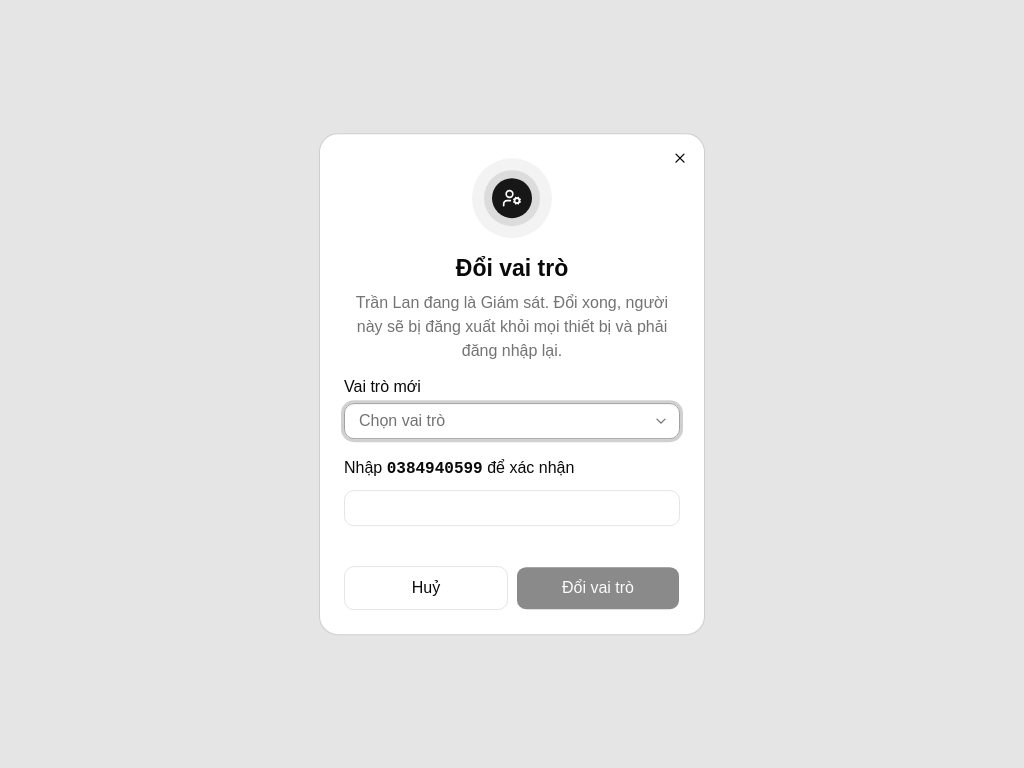
Test case: ChangeUserRoleDialog › nêu vai trò hiện tại và cảnh báo bị đăng xuất; ô chọn không có vai trò hiện tại
Expected: the text "đăng xuất khỏi mọi thiết bị" shows "Trần Lan", 356,294 -> 419,311
Expected: the text "đăng xuất khỏi mọi thiết bị" shows "Giám sát", 357,294 -> 668,359
Click the dropdown named "Vai trò mới" at (402, 420), box 344,403 -> 680,439
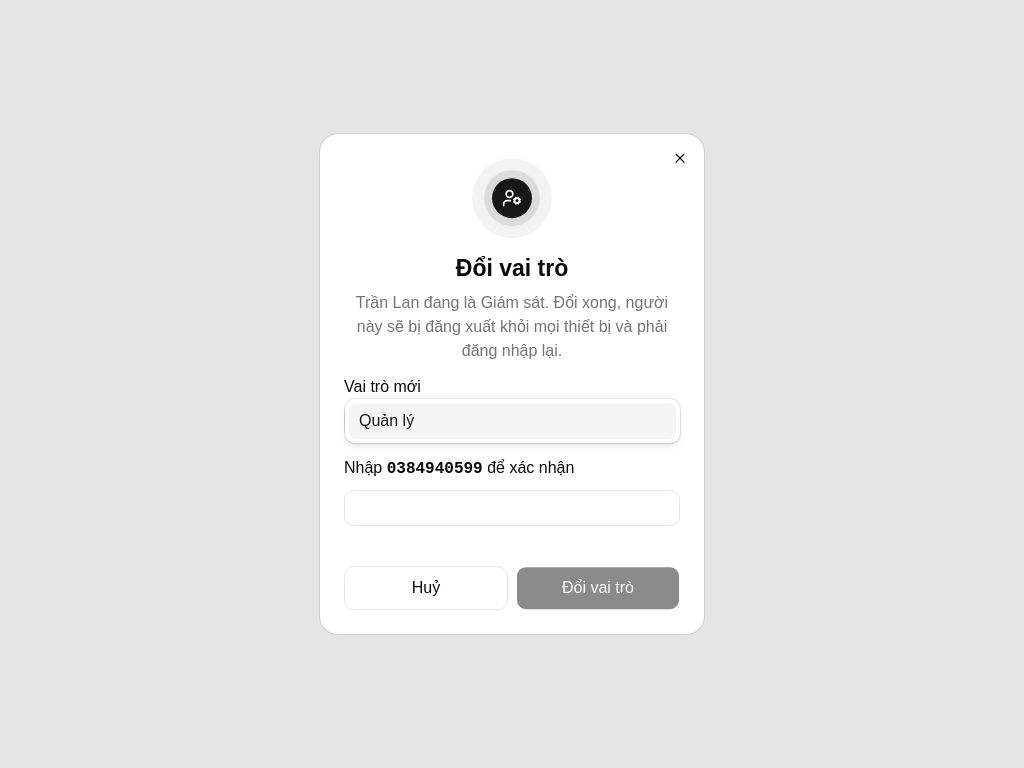
Now the options read "Quản lý", in this order, box 349,403 -> 676,439
